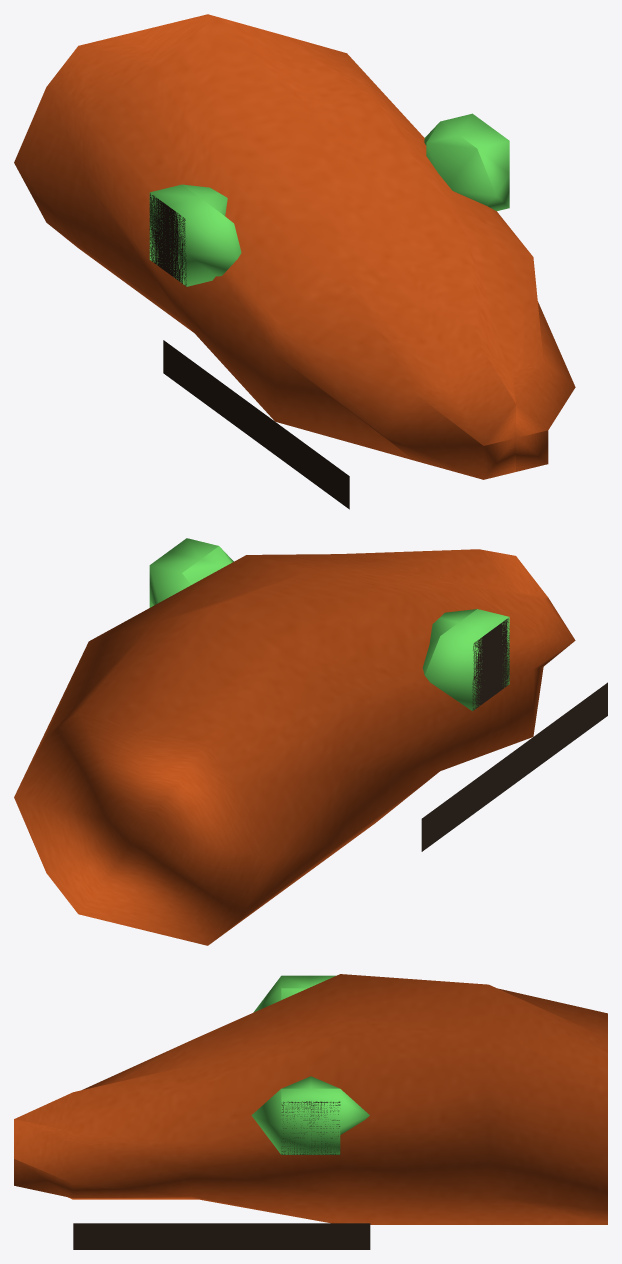
Rendered from whip_tip.glb.
3 views of the same model, one above another, from view 1: azimuth 30°, elevation 25°; view 2: azimuth 150°, elevation 25°; view 3: azimuth 270°, elevation 25° (orthographic). The views are drawn at different scales.
Parts seen in each view (by area): view 1: Approved coiled whip part 4, Approved coiled whip part 9, Approved coiled whip part 5, Approved coiled whip part 7, Approved coiled whip part 6; view 2: Approved coiled whip part 4, Approved coiled whip part 9, Approved coiled whip part 5, Approved coiled whip part 7, Approved coiled whip part 6; view 3: Approved coiled whip part 4, Approved coiled whip part 10, Approved coiled whip part 7, Approved coiled whip part 5, Approved coiled whip part 8.
Boxes of the visible parts, x1,y1,x2,y2 form: Approved coiled whip part 4: (14,14,575,479); Approved coiled whip part 9: (163,340,349,509); Approved coiled whip part 5: (149,184,241,286); Approved coiled whip part 7: (424,113,509,210); Approved coiled whip part 6: (149,193,186,285); Approved coiled whip part 4: (14,549,575,945); Approved coiled whip part 9: (421,682,607,851); Approved coiled whip part 5: (422,609,509,711); Approved coiled whip part 7: (149,538,233,607); Approved coiled whip part 6: (472,618,509,710); Approved coiled whip part 4: (14,974,607,1224); Approved coiled whip part 10: (73,1223,370,1249); Approved coiled whip part 7: (251,1076,369,1154); Approved coiled whip part 5: (253,975,335,1012); Approved coiled whip part 8: (281,1101,340,1154).
Bounding box in the file's own units: 136 × 109 × 273.
3 materials, 1 textured.
